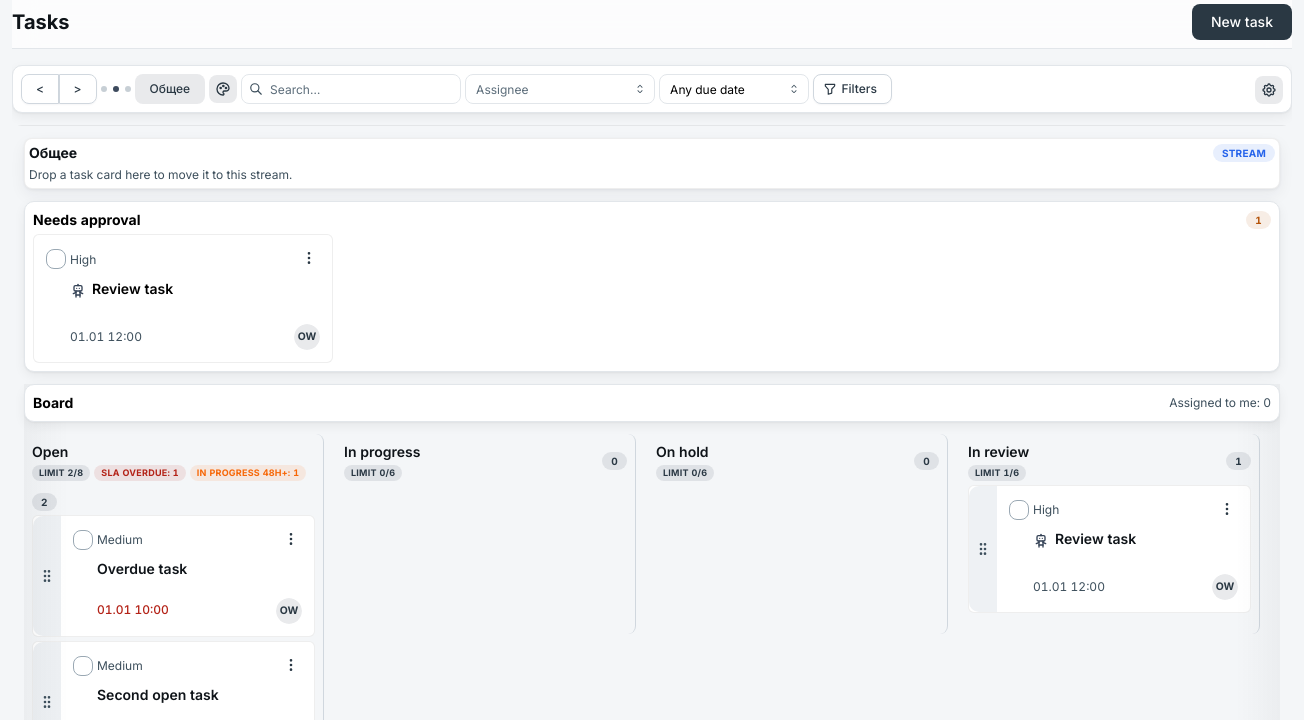
Test: AdminTasksPage workstation behavior › switching stream changes visible tasks
The image size is (1304, 720).
Click the button with test id "stream-switcher".
click(170, 89)  # box [135,74,205,104]
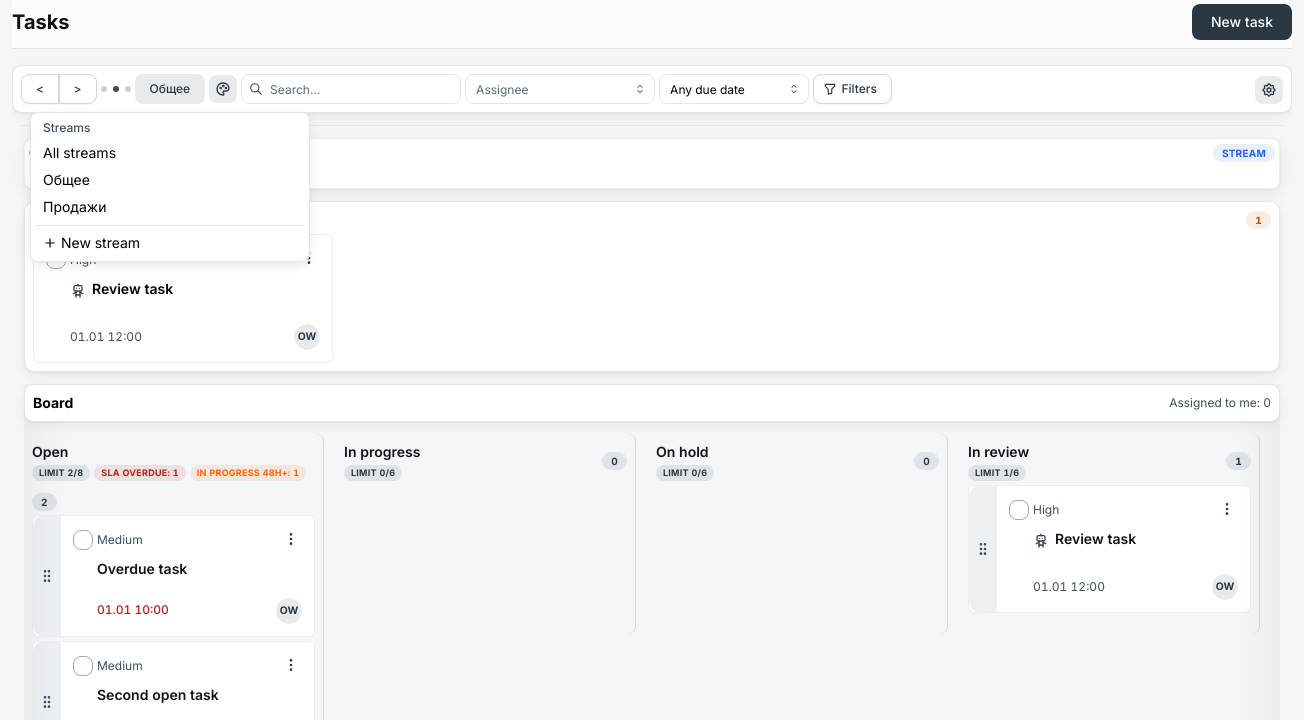
Click the menu item "Продажи".
click(75, 207)  # box [35,194,305,221]
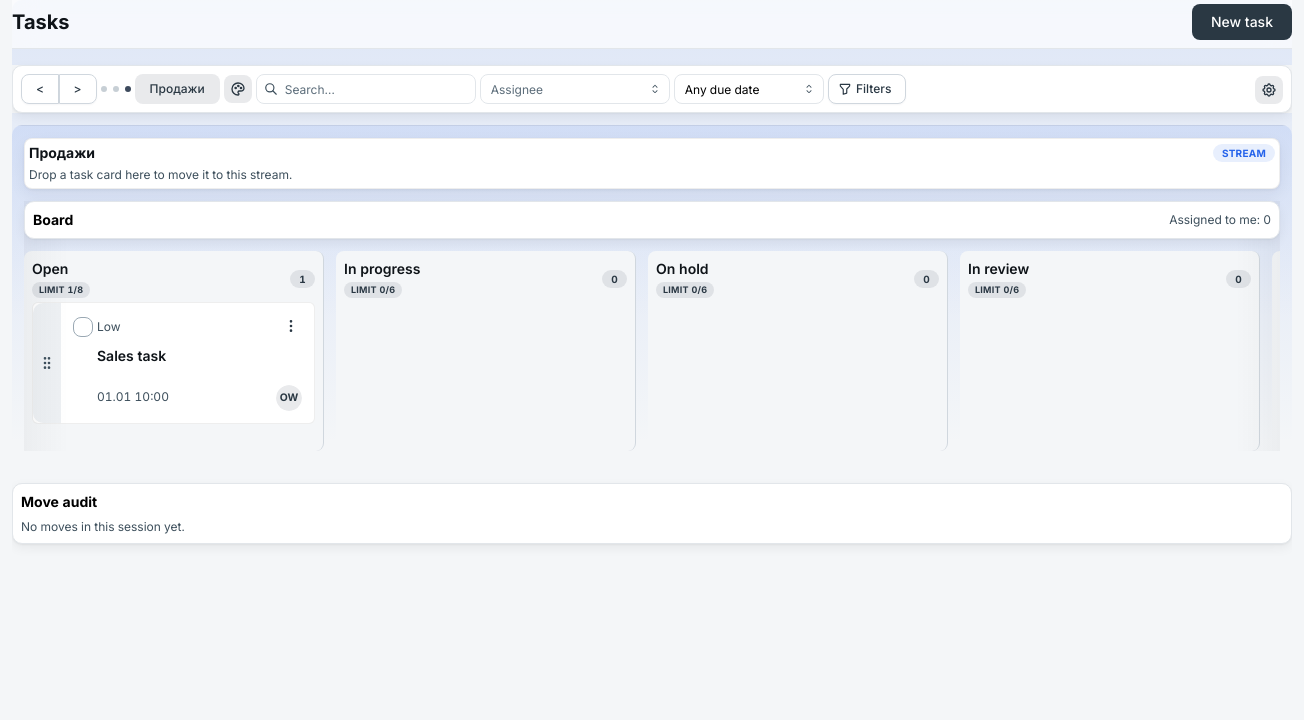
Check: the button with test id "stream-switcher" reads "Продажи", box [135,74,220,104]
